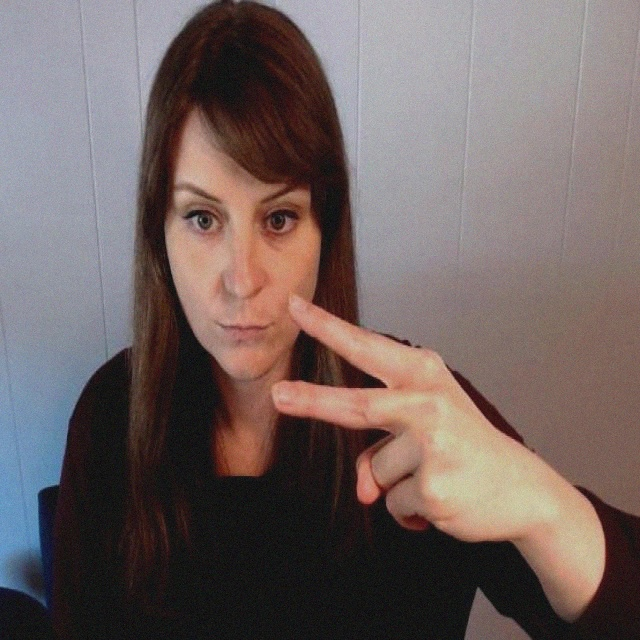Scissors: (276, 287, 515, 549)
